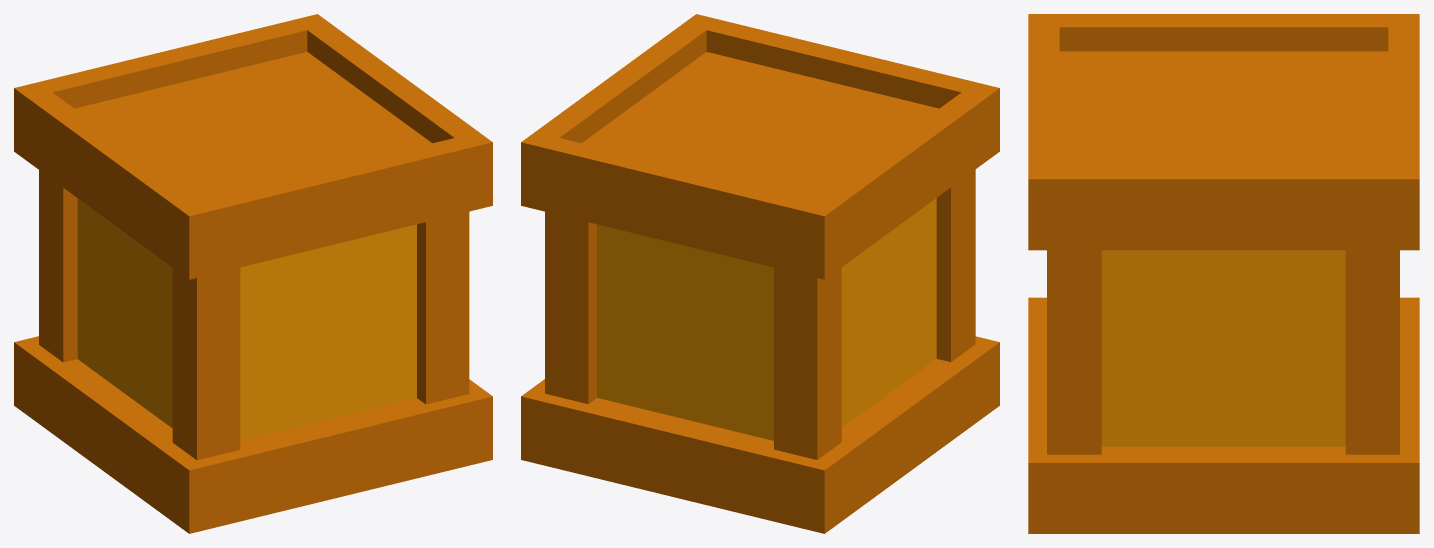
Rendered from crate1.fbx.
3 views of the same model, side by side, from view 1: azimuth 30°, elevation 25°; view 2: azimuth 150°, elevation 25°; view 3: azimuth 270°, elevation 25° (orthographic). The views are drawn at different scales.
Visible parts, largest first — view 1: crate1; view 2: crate1; view 3: crate1.
Part boxes in pixels (<box>): crate1: <box>14,14,492,533</box>; crate1: <box>521,14,999,533</box>; crate1: <box>1028,14,1419,533</box>.
Bounding box in the file's own units: 125 × 125 × 125.
